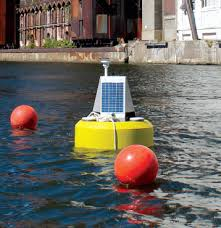buoy: (114, 145, 160, 190), (11, 105, 39, 134)
